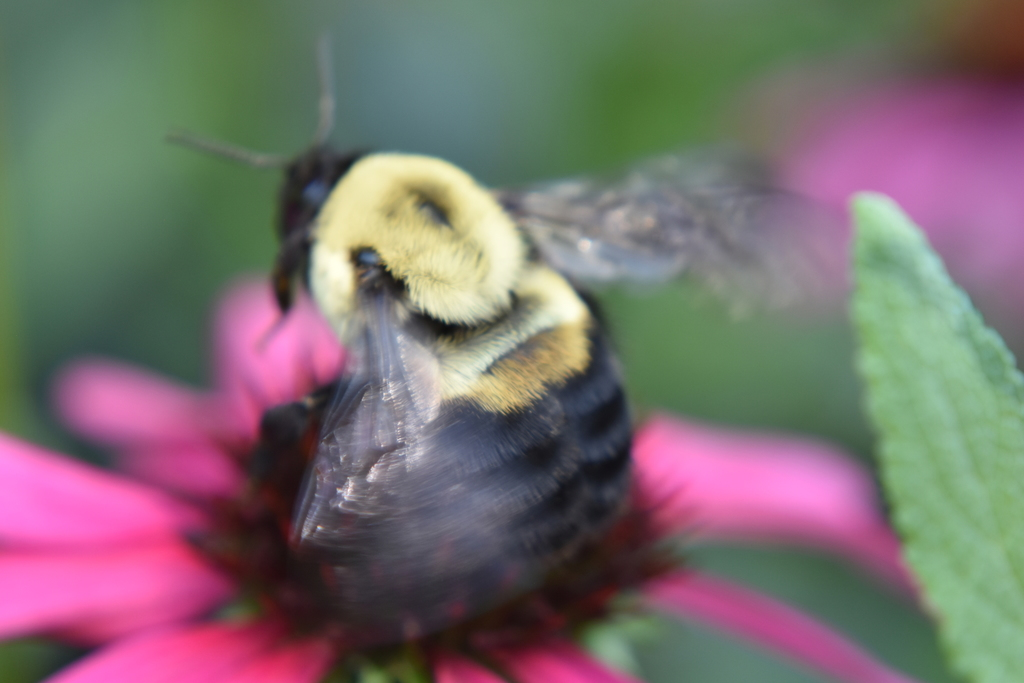bumblebee: (162, 29, 869, 644)
